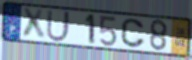1: (84, 13, 96, 45)
5: (98, 14, 119, 48)
8: (150, 19, 168, 53)
C: (121, 18, 147, 50)
U: (46, 9, 72, 43)
X: (21, 7, 47, 40)
